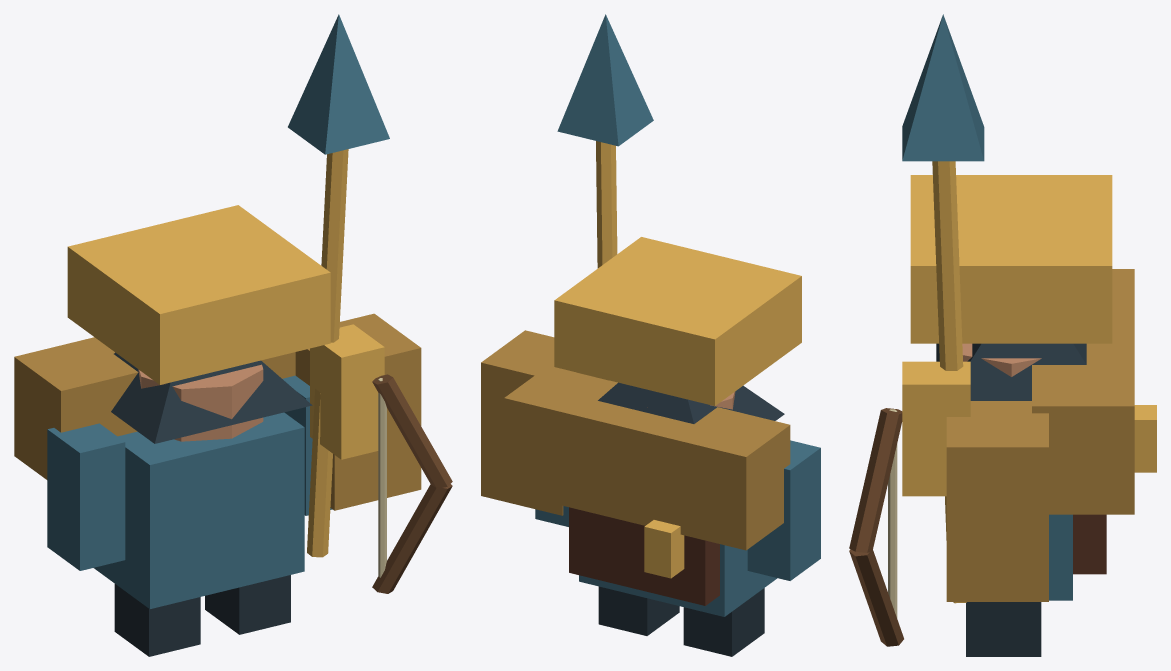
The model's file is scout.obj.
The picture shows the model from 3 angles, left to right: view 1: azimuth 30°, elevation 25°; view 2: azimuth 150°, elevation 25°; view 3: azimuth 270°, elevation 25°; orthographic projection. The views are drawn at different scales.
Visible parts, largest first — view 1: ranged; view 2: ranged; view 3: ranged.
Part boxes in pixels (x1,y1,x2,y2): ranged: (14,14,452,656); ranged: (481,14,820,656); ranged: (849,14,1156,656).
Size of the model in its own units: 1.21 by 2.14 by 0.9001.
